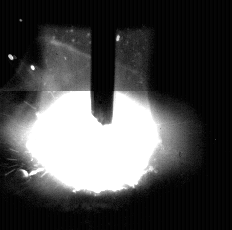arame: (91, 0, 116, 125)
poca: (26, 0, 164, 230)
